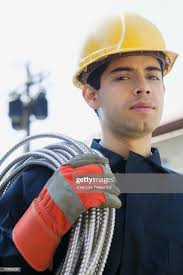Person_wearing_helmet: (64, 11, 179, 94)
